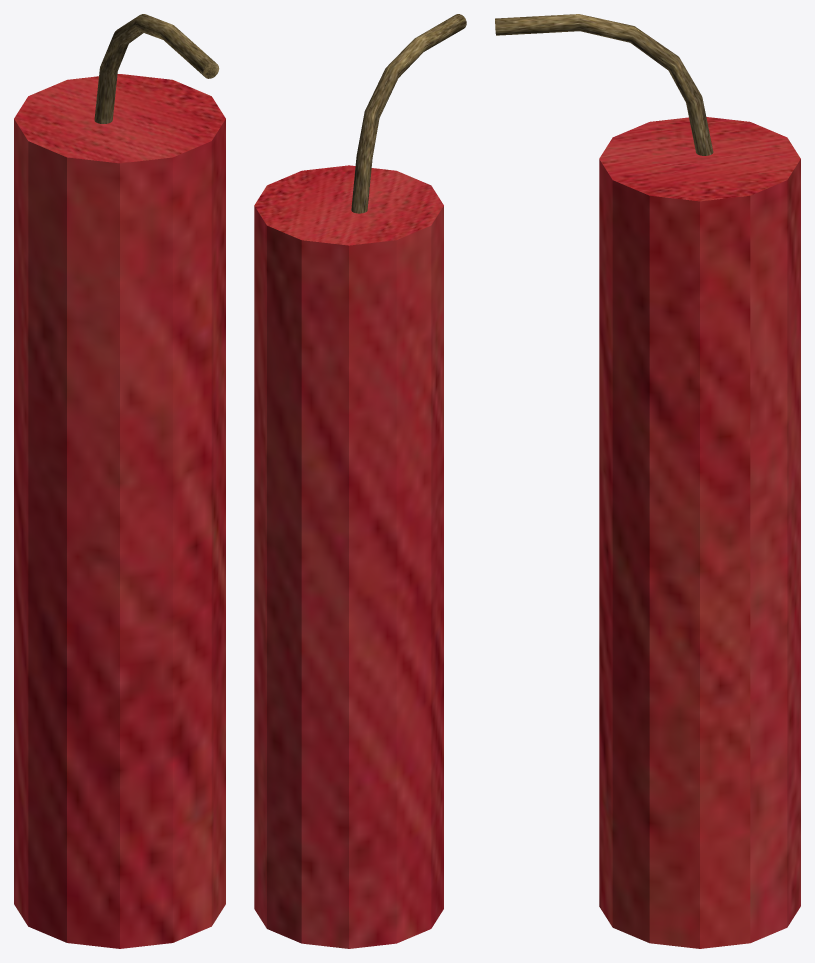
File: Bomb.fbx
3 views of the same model, side by side, from view 1: azimuth 30°, elevation 25°; view 2: azimuth 150°, elevation 25°; view 3: azimuth 270°, elevation 25° (orthographic). The views are drawn at different scales.
Visible parts, largest first — view 1: pCylinder3; view 2: pCylinder3; view 3: pCylinder3.
Boxes of the visible parts, bbox=[...] form: pCylinder3: bbox=[14, 14, 225, 948]; pCylinder3: bbox=[254, 14, 466, 948]; pCylinder3: bbox=[495, 14, 800, 948].
Bounding box in the file's own units: 3.28 × 15.86 × 4.97.
Materials: 1 (1 with a texture image).
